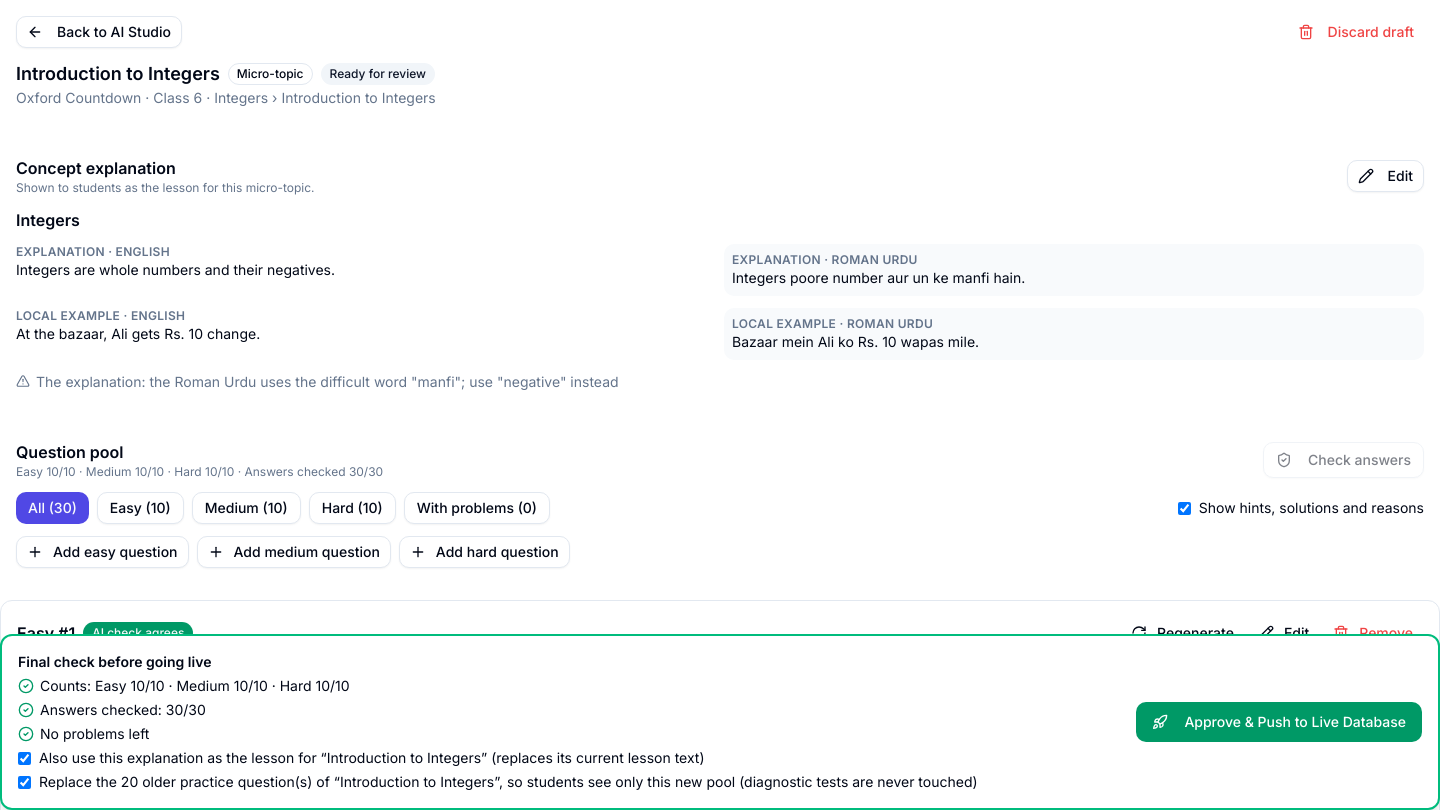
Scenario: AI draft review (Rule C) › replaces a micro-topic's older questions by default, and reports how many went
Check: the checkbox labelled "Replace the 20 older practice question(s) of “Introduction to Integers”" is checked, box [18,776,31,788]
Click the button "Approve & Push to Live Database": (1279, 722) [1136,702,1422,742]
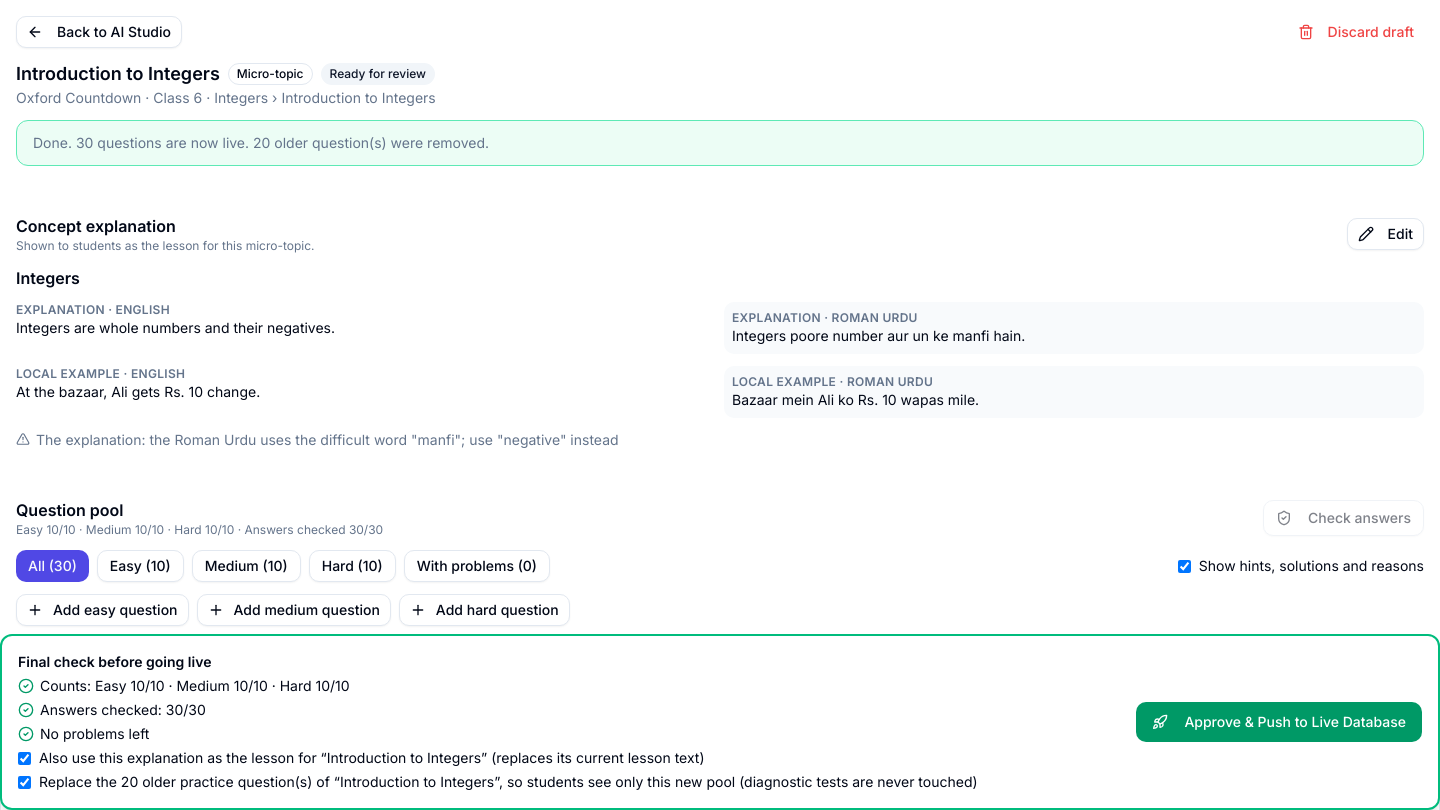
Check: the text "30 questions are now live. 20 older question(s) were removed." is shown, box [33,134,489,151]
